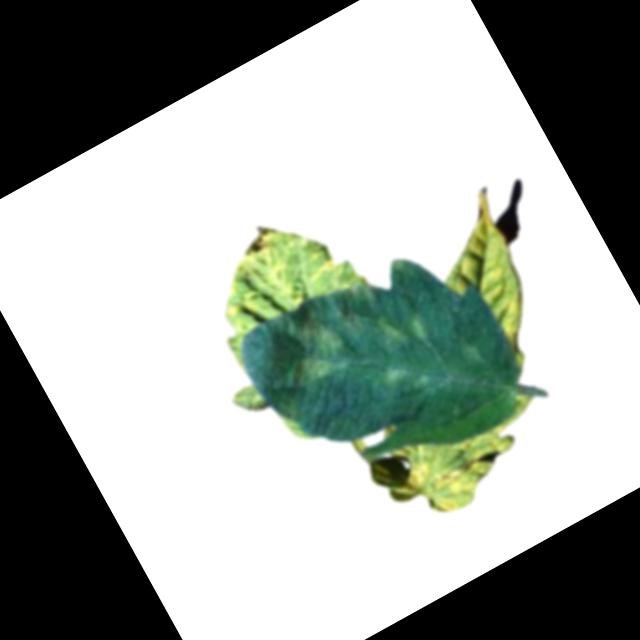Leaf_Mold: (416, 197, 552, 362), (196, 205, 342, 328), (394, 435, 496, 529), (258, 307, 356, 399)
